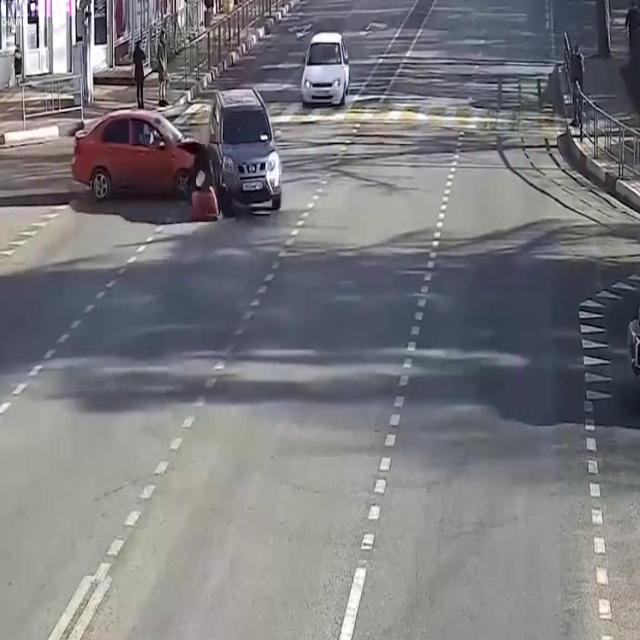accident: (63, 75, 289, 229)
